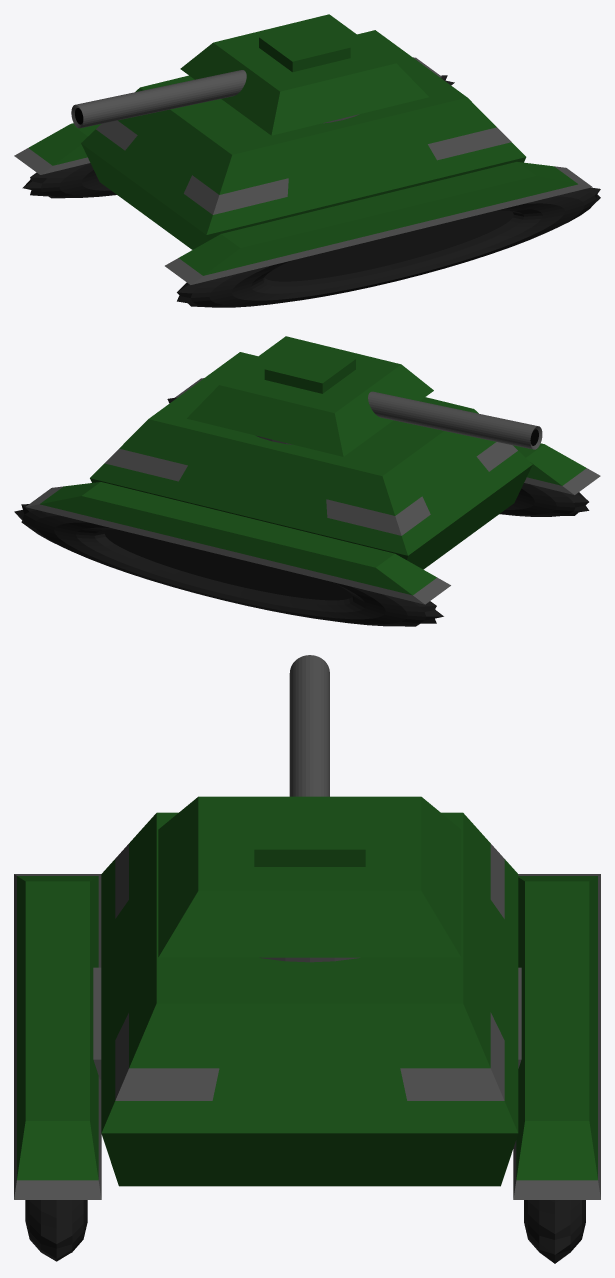
Rendered from Tank.fbx.
3 views of the same model, one above another, from view 1: azimuth 30°, elevation 25°; view 2: azimuth 150°, elevation 25°; view 3: azimuth 270°, elevation 25° (orthographic). The views are drawn at different scales.
Visible parts, largest first — view 1: Cube.001, Cylinder; view 2: Cube.001, Cylinder; view 3: Cube.001, Cylinder.
Boxes of the visible parts, x1,y1,x2,y2 form: Cube.001: [14, 30, 600, 307]; Cylinder: [71, 14, 428, 135]; Cube.001: [14, 352, 600, 626]; Cylinder: [187, 336, 542, 456]; Cube.001: [14, 812, 600, 1263]; Cylinder: [158, 655, 461, 962].
Bounding box in the file's own units: 798 × 310 × 540.
